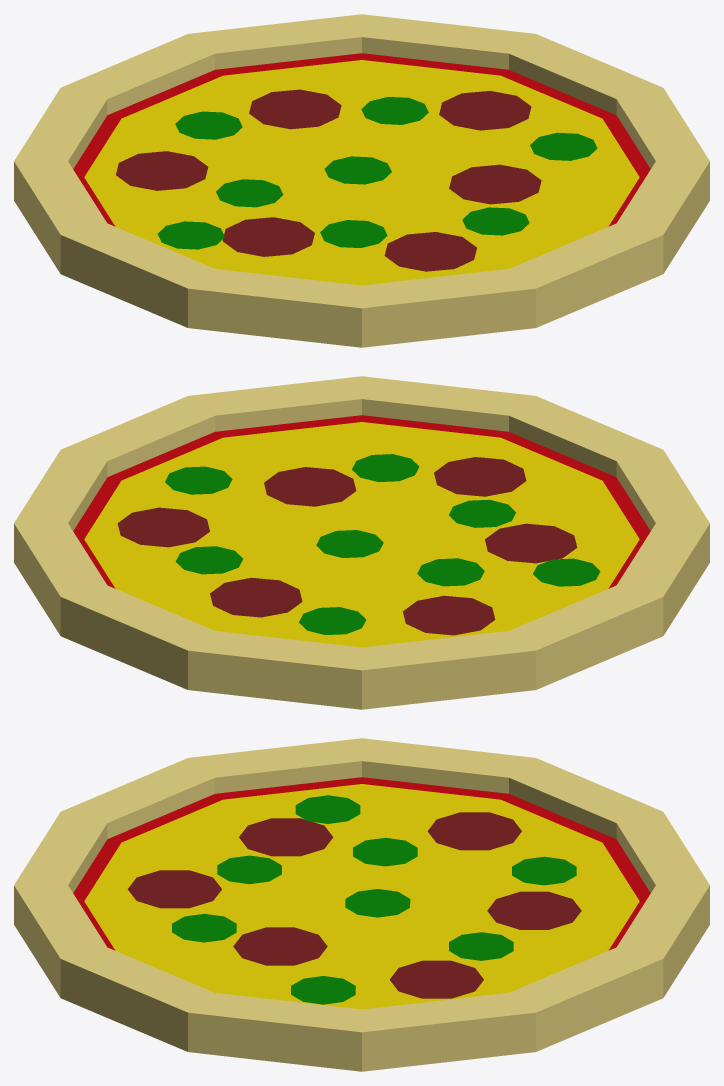
Rendered from lowpolypizza.fbx.
The picture shows the model from 3 angles, top to bottom: view 1: azimuth 30°, elevation 25°; view 2: azimuth 150°, elevation 25°; view 3: azimuth 270°, elevation 25°; orthographic projection.
Parts seen in each view (by area): view 1: Pizza Base, Cheese, Pepperonis, Japalenos; view 2: Pizza Base, Cheese, Pepperonis, Japalenos; view 3: Pizza Base, Cheese, Pepperonis, Japalenos.
Part boxes in pixels (bbox=[...]): Pizza Base: bbox=[14, 14, 709, 347]; Cheese: bbox=[84, 60, 639, 285]; Pepperonis: bbox=[116, 89, 541, 271]; Japalenos: bbox=[157, 97, 597, 249]; Pizza Base: bbox=[14, 376, 709, 709]; Cheese: bbox=[84, 422, 639, 647]; Pepperonis: bbox=[117, 457, 577, 635]; Japalenos: bbox=[165, 454, 600, 634]; Pizza Base: bbox=[14, 738, 709, 1071]; Cheese: bbox=[84, 784, 639, 1009]; Pepperonis: bbox=[127, 812, 581, 998]; Japalenos: bbox=[172, 795, 576, 1004].
Size of the model in its own units: 40 by 2.5 by 40.
